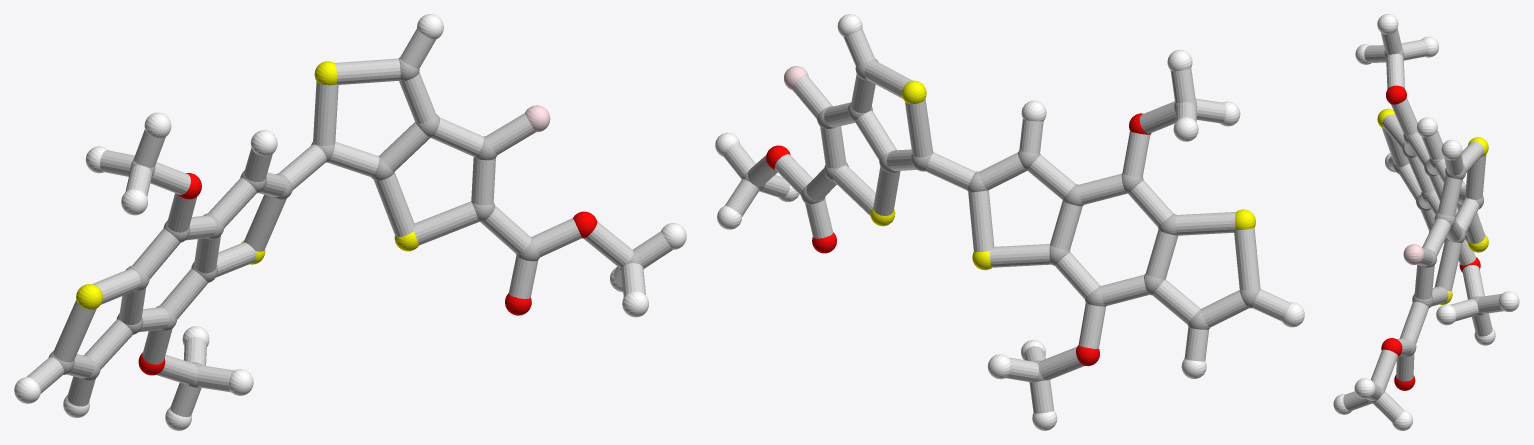
The model's file is Dimethoxy_Benzodithiophene_Phi_30_Theta_320_Methylcarbonyl_3_Fluoro_Thienothiophene.glb.
3 renders of one model, left to right at view 1: azimuth 30°, elevation 25°; view 2: azimuth 150°, elevation 25°; view 3: azimuth 270°, elevation 25°, orthographic. The views are drawn at different scales.
Visible parts, largest first — view 1: grp15205, grp8689, grp1, grp13395, grp7241; view 2: grp15205, grp8689, grp1, grp7241, grp13395; view 3: grp15205, grp8689, grp1, grp13395, grp7241, grp14843.
Boxes of the visible parts, x1,y1,x2,y2 form: grp15205: [26, 29, 672, 417]; grp8689: [14, 14, 686, 430]; grp1: [48, 57, 643, 387]; grp13395: [138, 173, 597, 375]; grp7241: [76, 61, 418, 309]; grp15205: [723, 29, 1289, 413]; grp8689: [715, 14, 1304, 430]; grp1: [742, 58, 1260, 381]; grp7241: [870, 80, 1255, 270]; grp13395: [766, 113, 1151, 366]; grp15205: [1343, 28, 1504, 422]; grp8689: [1333, 14, 1519, 430]; grp1: [1367, 48, 1483, 403]; grp13395: [1381, 85, 1480, 390]; grp7241: [1377, 108, 1488, 304]; grp14843: [1403, 244, 1424, 264].
Bounding box in the file's own units: 16.67 × 9.36 × 5.3.
